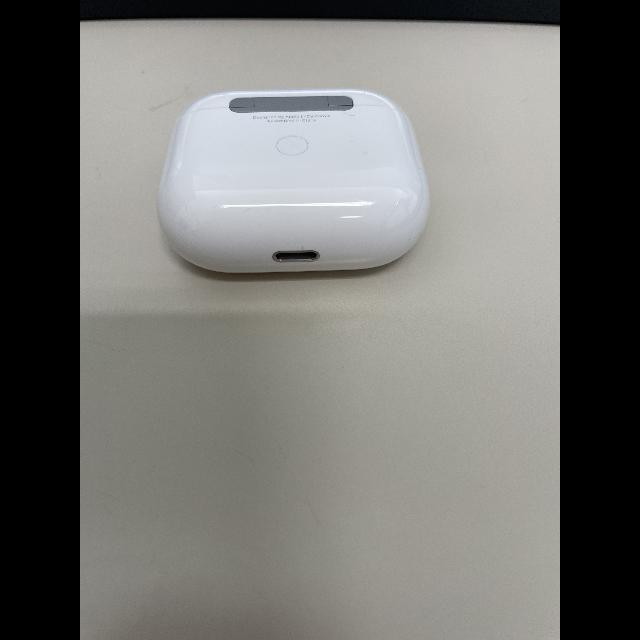airpod3: (162, 80, 436, 278)
